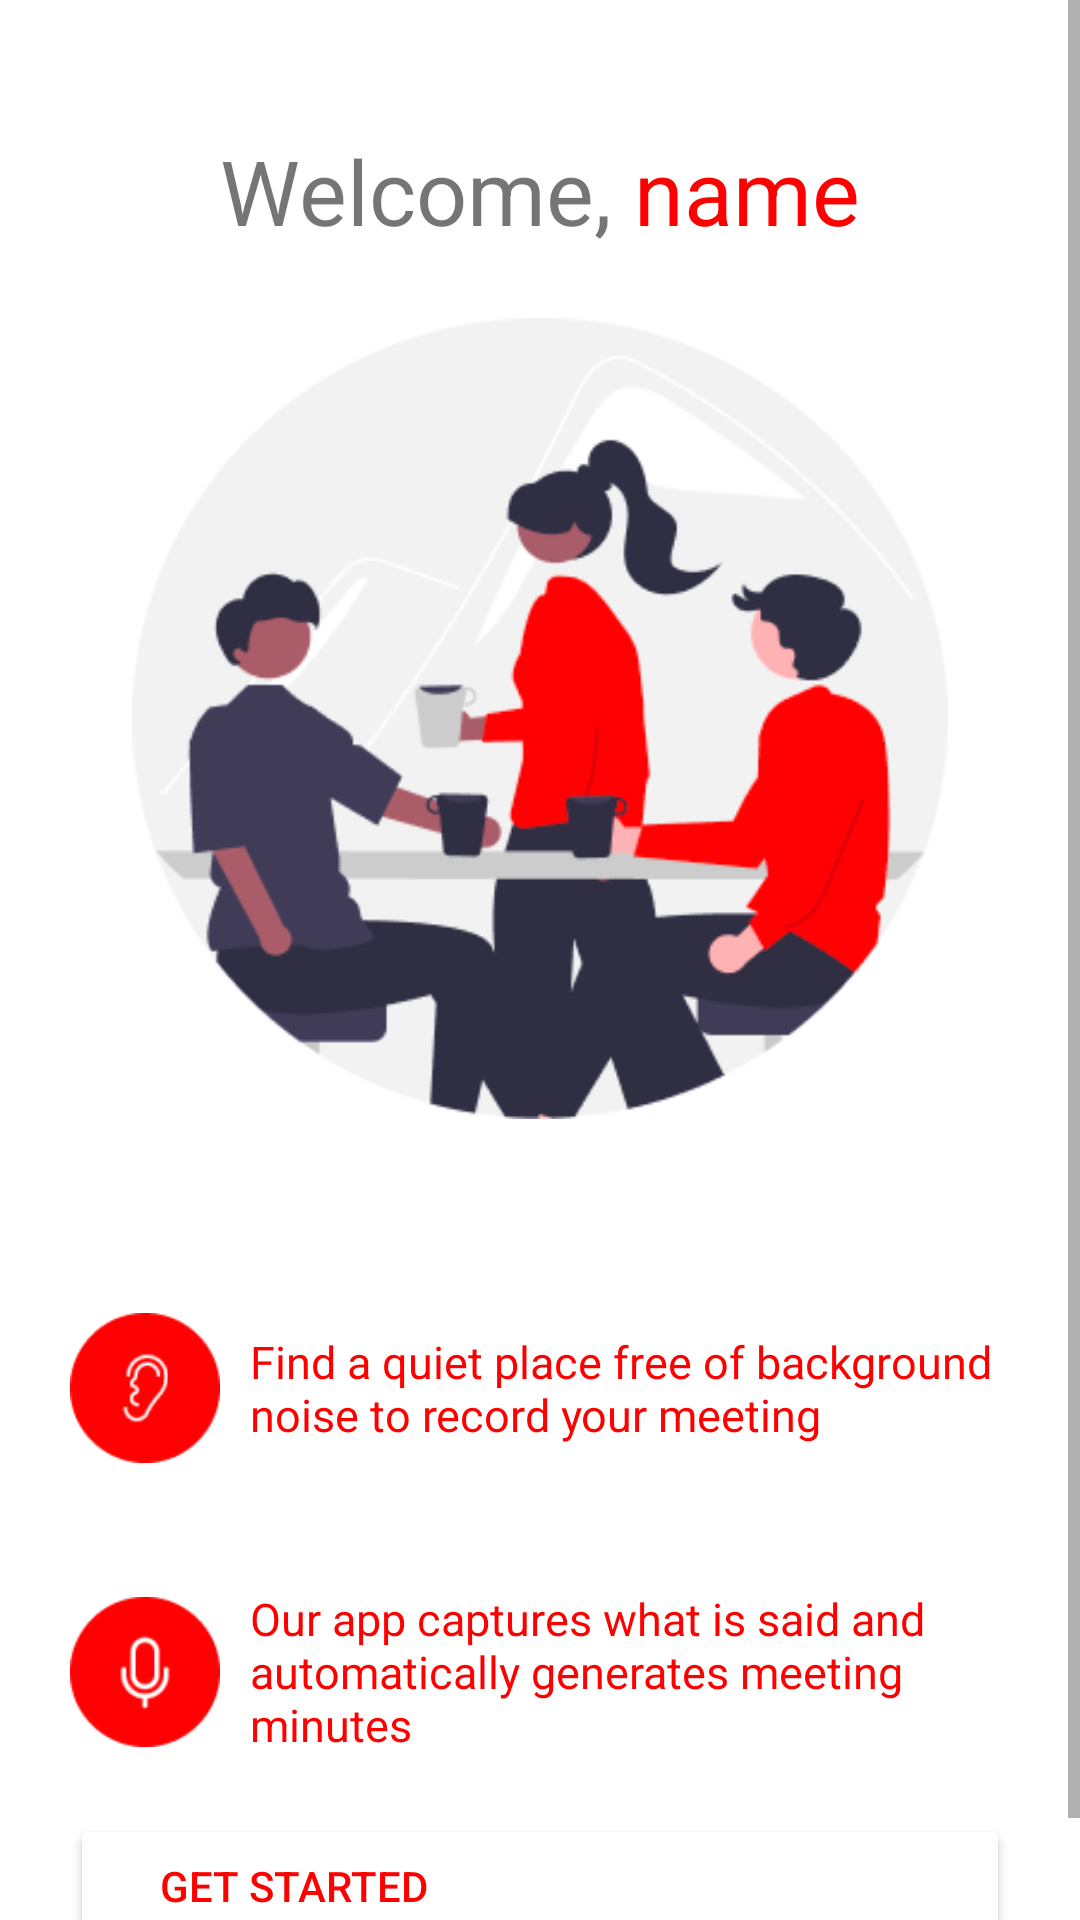

Screen size 1080 × 1920. Icon name, then its box in pixels as (x1, y1, x2, y2):
ear: (70, 1313, 220, 1463)
mic: (70, 1597, 220, 1747)
